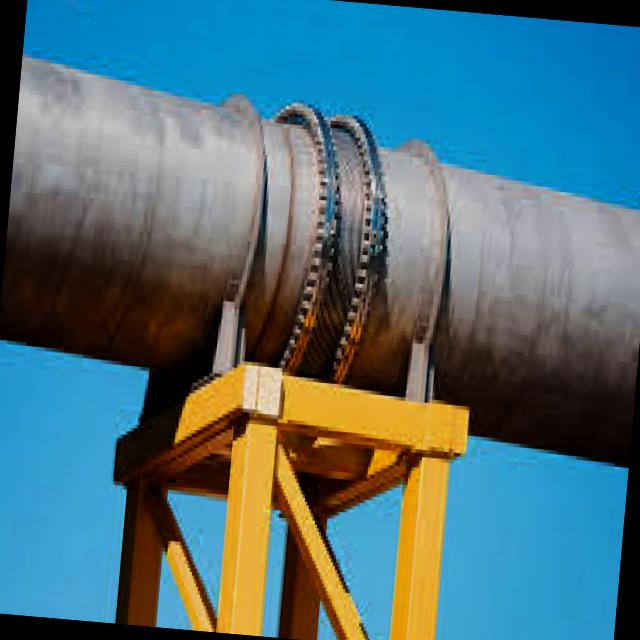gas: (0, 58, 640, 463), (436, 166, 640, 463)
